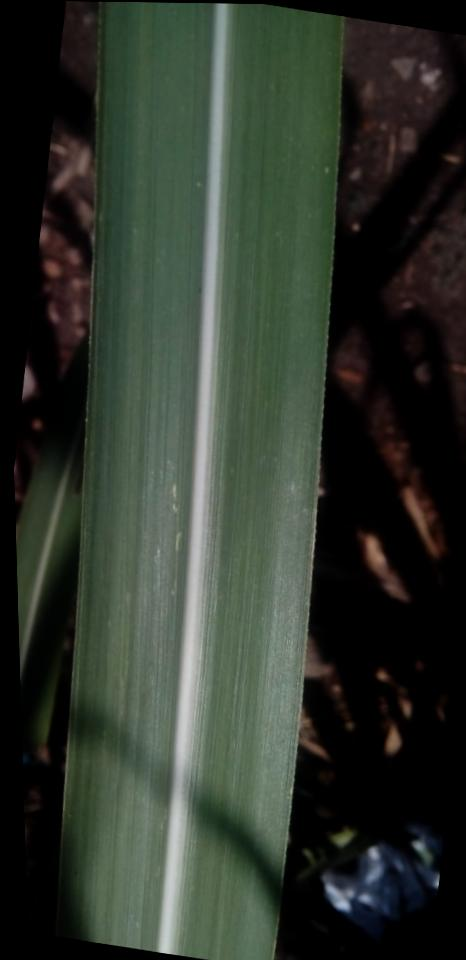Healthy: (56, 1, 341, 960)
